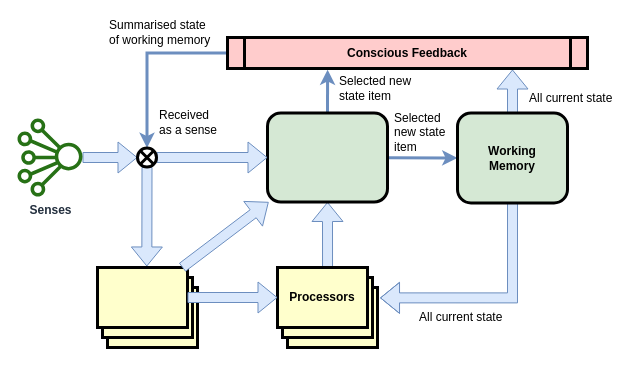
This 644x366 diagram has some shape labels left out. The shapes that lost their labels are listed below. From the top down, each one's centre as x and y in pixels, then its label:
At point 327,157: "Attention Control".
At point 142,297: "Interceptors (pre-processors)".
